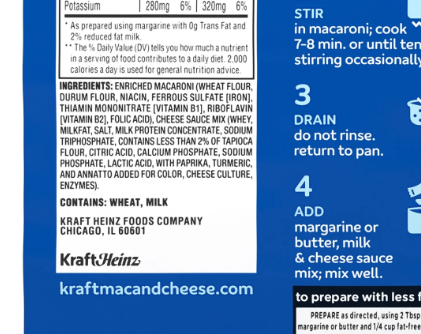l: (53, 78, 256, 193)
